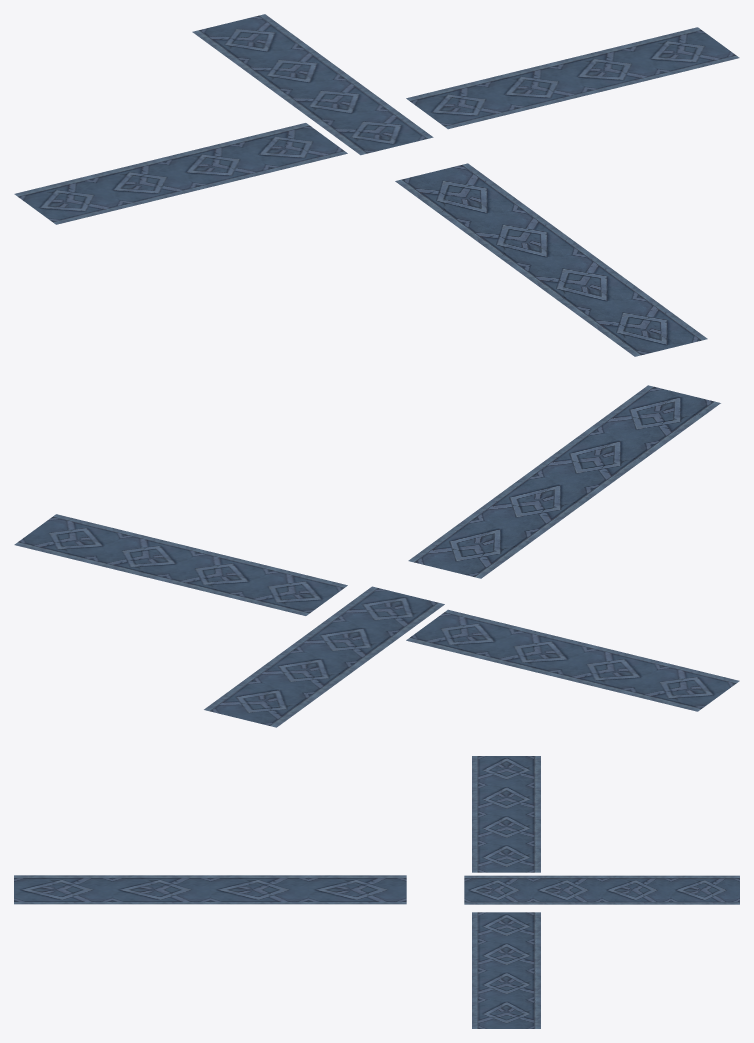
Rendered from Area_05_3.fbx.
3 renders of one model, top to bottom at view 1: azimuth 30°, elevation 25°; view 2: azimuth 150°, elevation 25°; view 3: azimuth 270°, elevation 25°, orthographic. The views are drawn at different scales.
Visible parts, largest first — view 1: Area_05_3; view 2: Area_05_3; view 3: Area_05_3.
Part boxes in pixels (x1,y1,x2,y2): Area_05_3: [14, 14, 739, 356]; Area_05_3: [14, 385, 739, 727]; Area_05_3: [14, 756, 739, 1028].
Bounding box in the file's own units: 4039 × 0.000938 × 4540.
